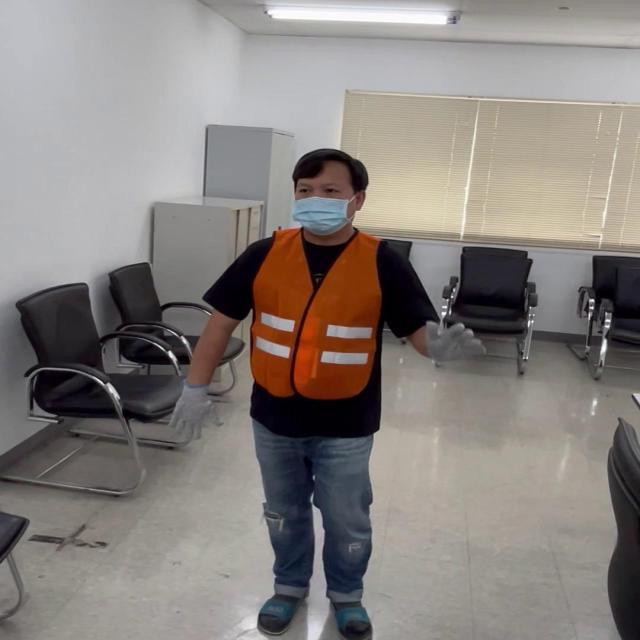gloved_hand: (416, 316, 487, 362), (169, 382, 223, 435)
